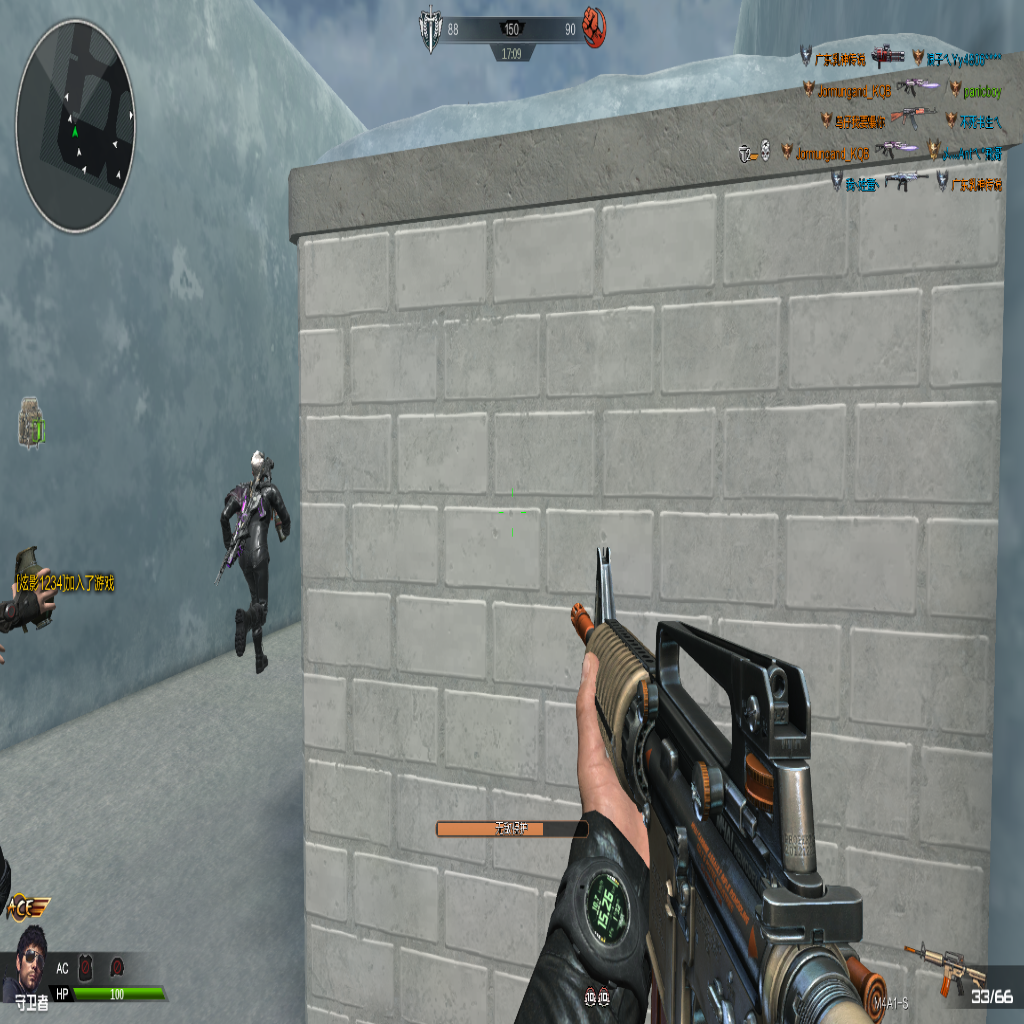ct: (223, 448, 293, 679)
